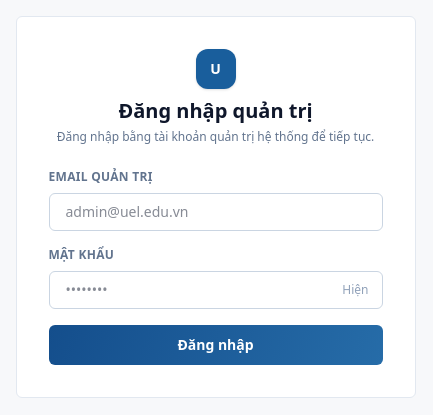
Test: Brief A1 & PLAN_ADMIN Mục 8: Admin Shell, Login, Layout & Overview › 1. Trang đăng nhập quản trị (/admin/login) › hiển thị form đầy đủ trường email, mật khẩu và nút hiện/ẩn mật khẩu
Expected: the field labelled "Email quản trị" is shown, [48, 193, 382, 231]
Expected: the password field labelled "Mật khẩu" is shown, [48, 271, 382, 309]
Click the button with aria-label "Hiện mật khẩu". click: (355, 290)
box: [338, 278, 372, 302]
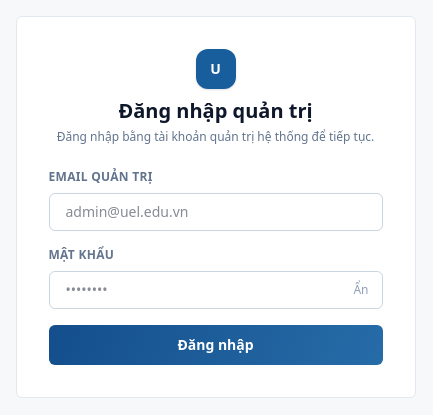
Now the button with aria-label "Ẩn mật khẩu" is shown, box [349, 278, 372, 302]
